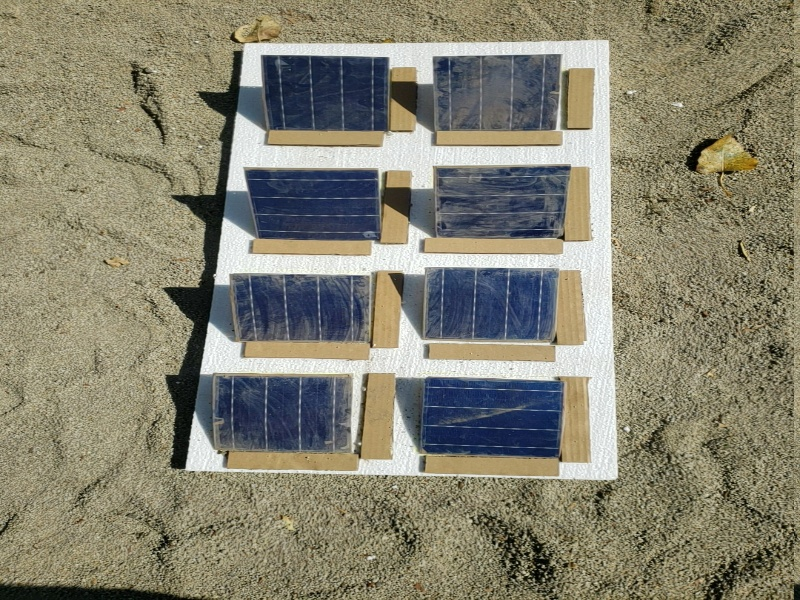clean: (423, 382, 569, 459), (239, 173, 391, 240), (261, 58, 386, 130)
dirty: (211, 374, 354, 454), (435, 166, 570, 240), (233, 276, 378, 344), (425, 269, 558, 341), (435, 59, 562, 130)
